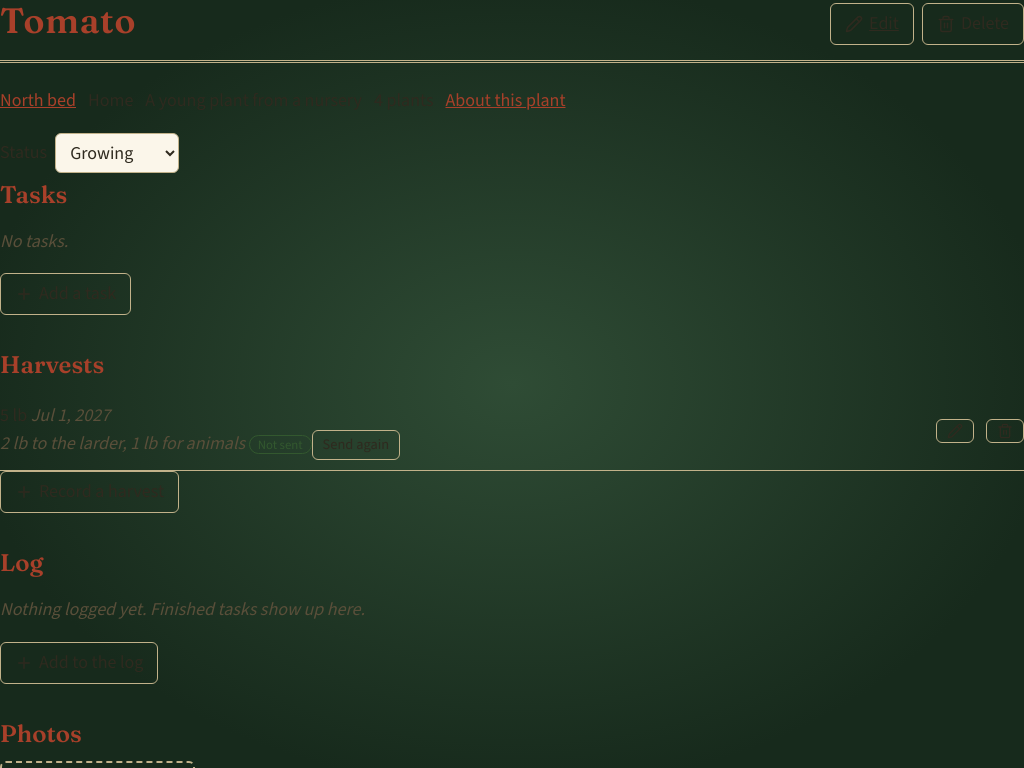
Test: harvest lists › an old harvest whose animal is gone still saves without picking one
Click the button named "Edit the harvest" at (955, 431), box [936,419,974,443]
(page scrolled)
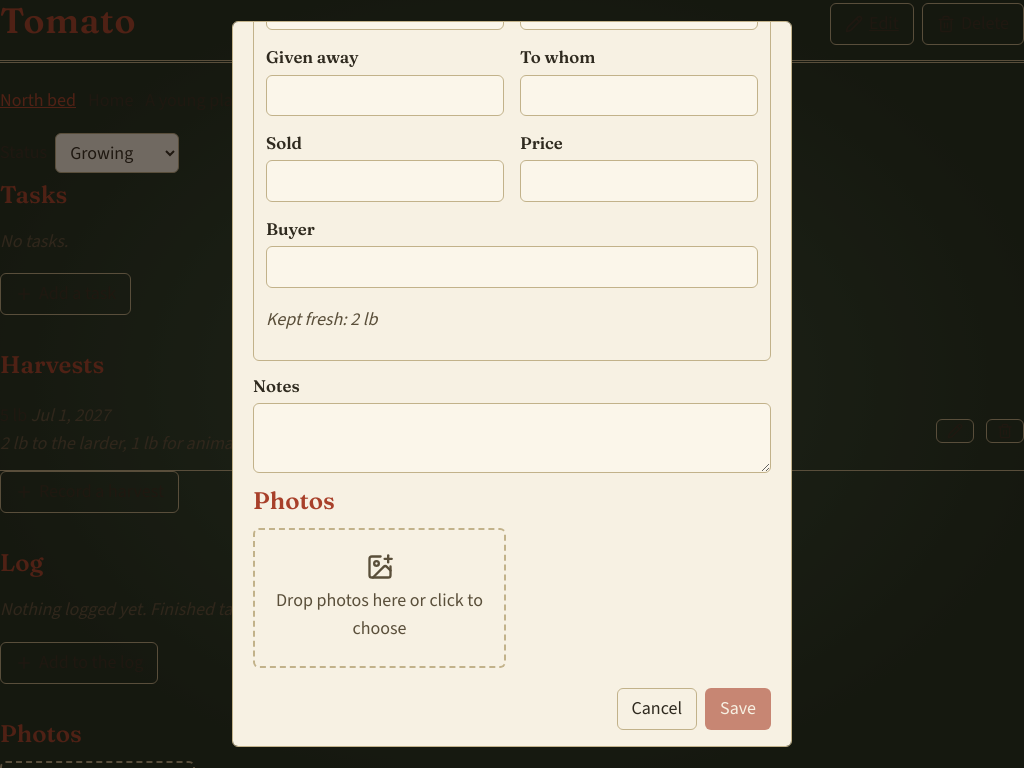
Type "Old" into the text box labelled "Notes" at (512, 438), box [253,403,771,473]
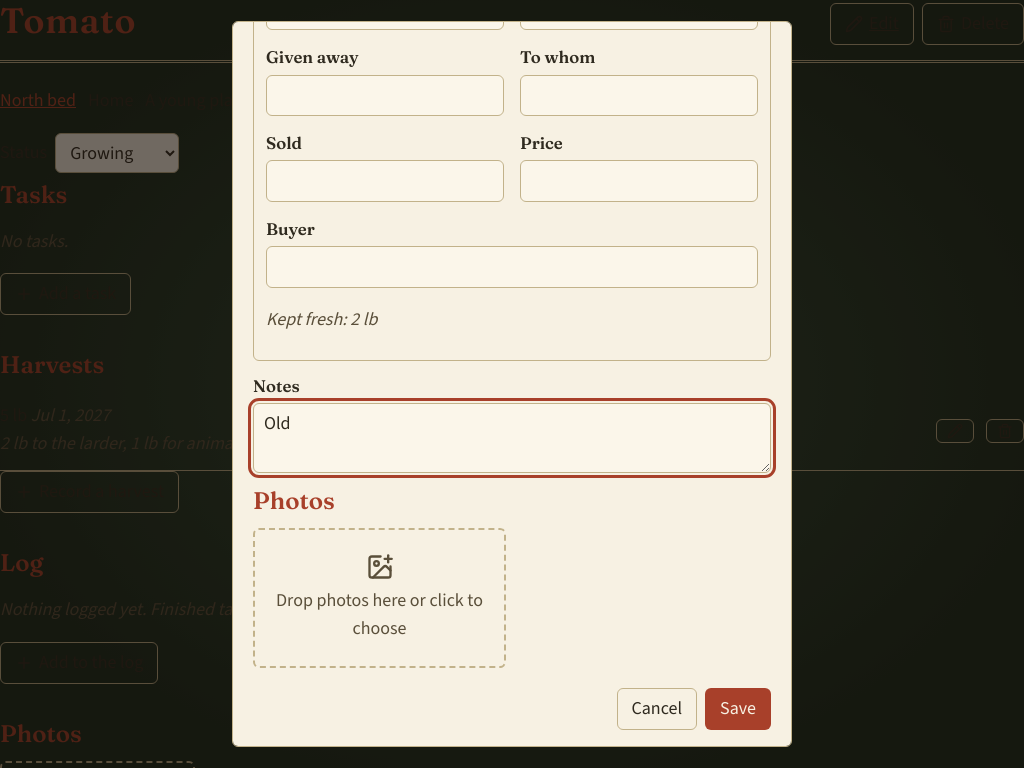
Result: the button "Save" is enabled at [705,688,771,730]
